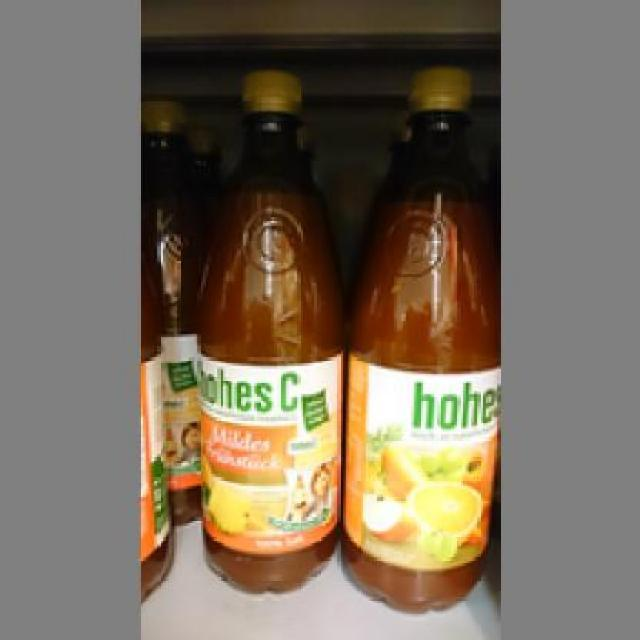Juice: (337, 59, 497, 612), (194, 68, 340, 598)
